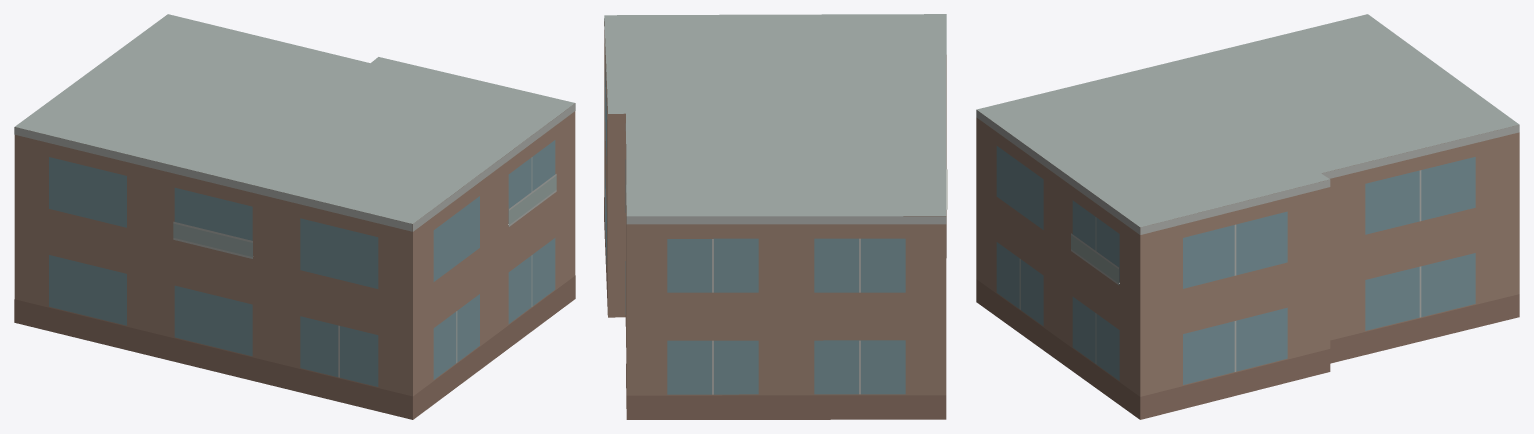
Rendered from survey-upis-32660998.glb.
3 views of the same model, side by side, from view 1: azimuth 30°, elevation 25°; view 2: azimuth 150°, elevation 25°; view 3: azimuth 270°, elevation 25° (orthographic). The views are drawn at different scales.
Parts seen in each view (by area): view 1: survey-upis-32660998.tmp; view 2: survey-upis-32660998.tmp; view 3: survey-upis-32660998.tmp.
Boxes of the visible parts, bbox=[...] form: survey-upis-32660998.tmp: bbox=[14, 14, 575, 419]; survey-upis-32660998.tmp: bbox=[604, 14, 947, 419]; survey-upis-32660998.tmp: bbox=[976, 14, 1519, 419].
Size of the model in its own units: 14.52 by 6.1 by 15.62.
